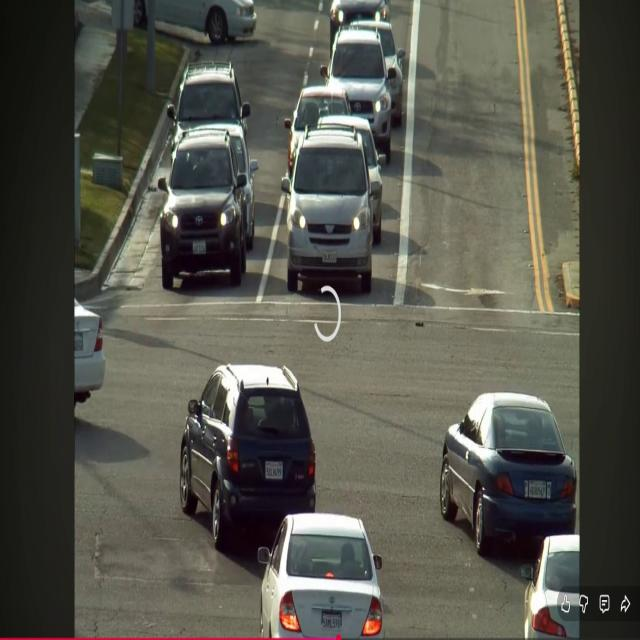car: (180, 364, 315, 551), (440, 392, 576, 555), (281, 126, 377, 293), (258, 513, 384, 638), (158, 128, 247, 289), (320, 30, 396, 161), (318, 116, 385, 245), (167, 62, 250, 147), (207, 124, 258, 250), (520, 535, 579, 638), (349, 20, 405, 126), (284, 86, 350, 175), (156, 0, 256, 45), (74, 300, 105, 406), (330, 0, 389, 50)
